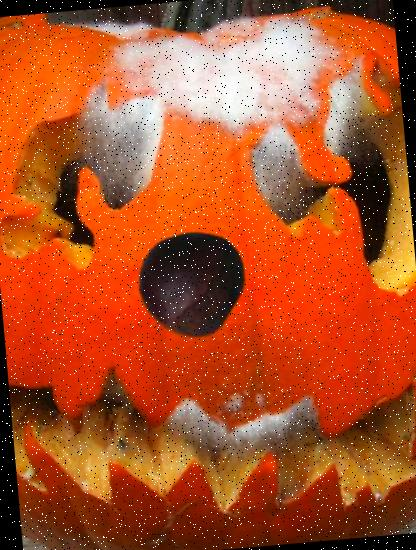Chestnut: (131, 221, 251, 341)
